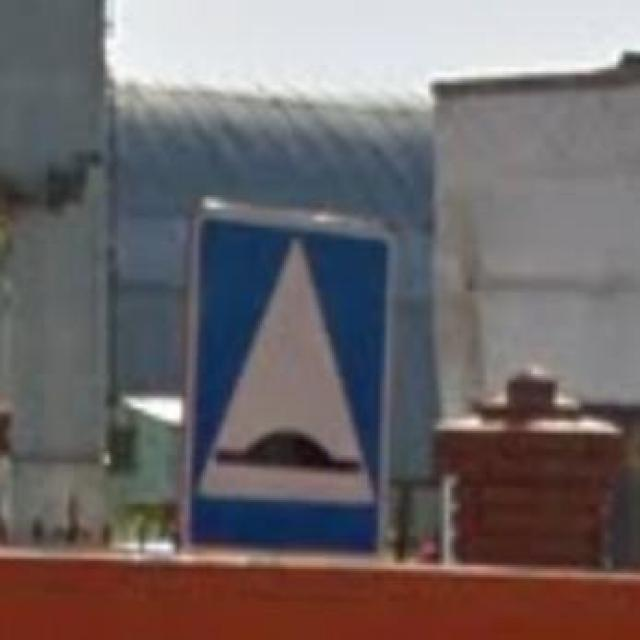traffic_sign: (181, 205, 398, 563)
